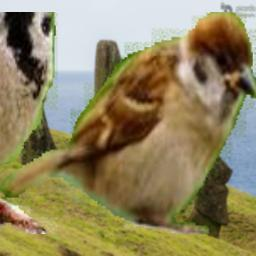Sparrow: (0, 12, 256, 234)
